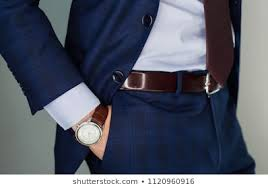F_belt: (115, 64, 234, 102)
